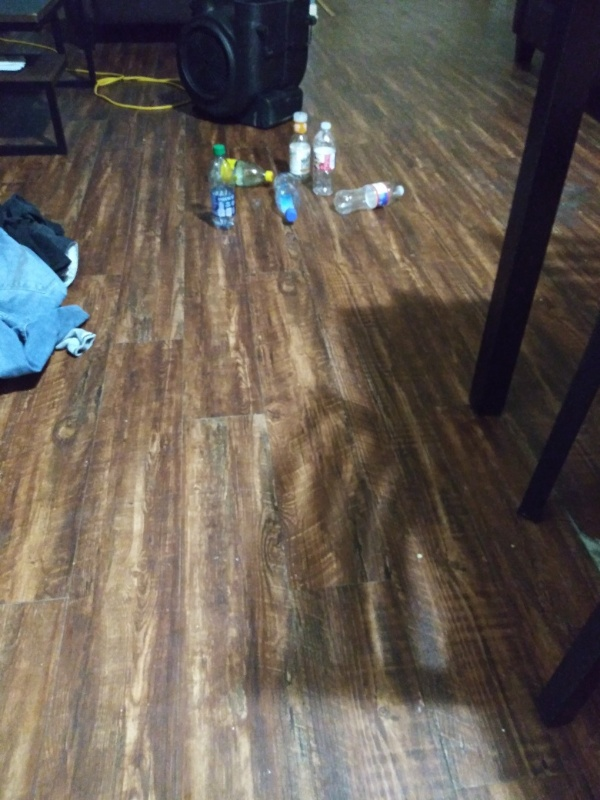bottle: (203, 139, 244, 227), (332, 178, 409, 219), (282, 109, 315, 187), (309, 117, 337, 201), (208, 154, 275, 187), (269, 169, 303, 227)
